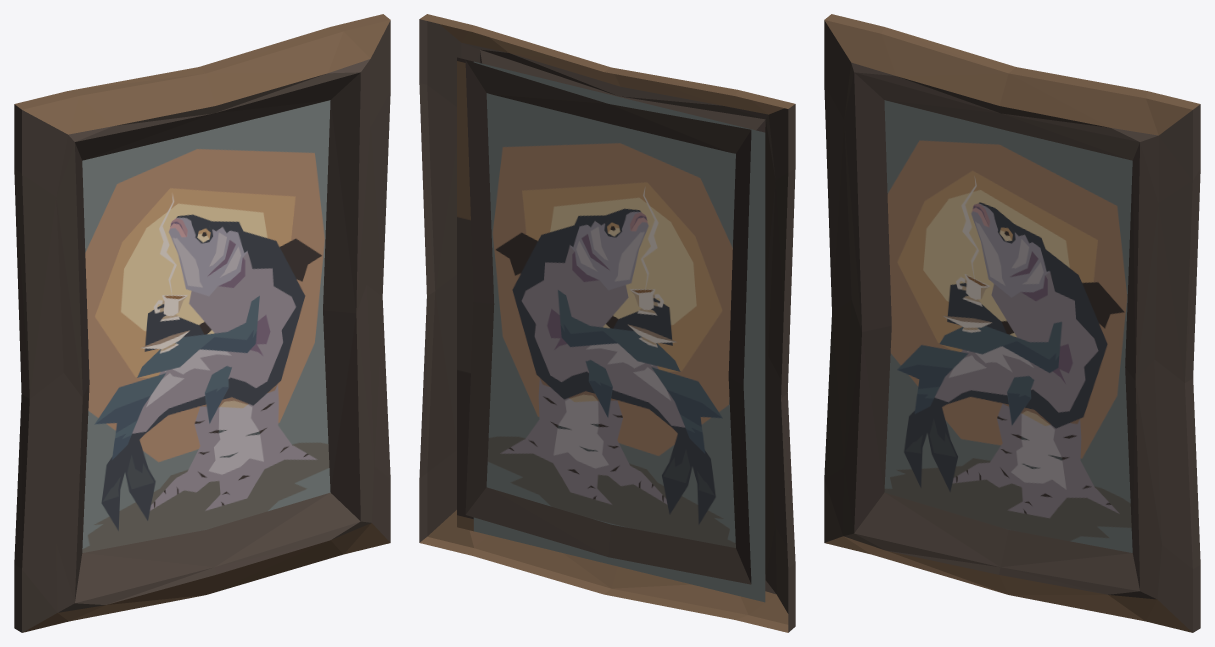
The model's file is hint_painting_big.fbx.
The picture shows the model from 3 angles, left to right: view 1: azimuth 30°, elevation 25°; view 2: azimuth 150°, elevation 25°; view 3: azimuth 330°, elevation 25°; orthographic projection.
Parts seen in each view (by area): view 1: picture_frame1; view 2: picture_frame1; view 3: picture_frame1.
Boxes of the visible parts, x1=… form: picture_frame1: x1=14, y1=14, x2=390, y2=632; picture_frame1: x1=419, y1=14, x2=795, y2=632; picture_frame1: x1=824, y1=14, x2=1200, y2=632.
Size of the model in its own units: 116 by 159 by 10.85.
